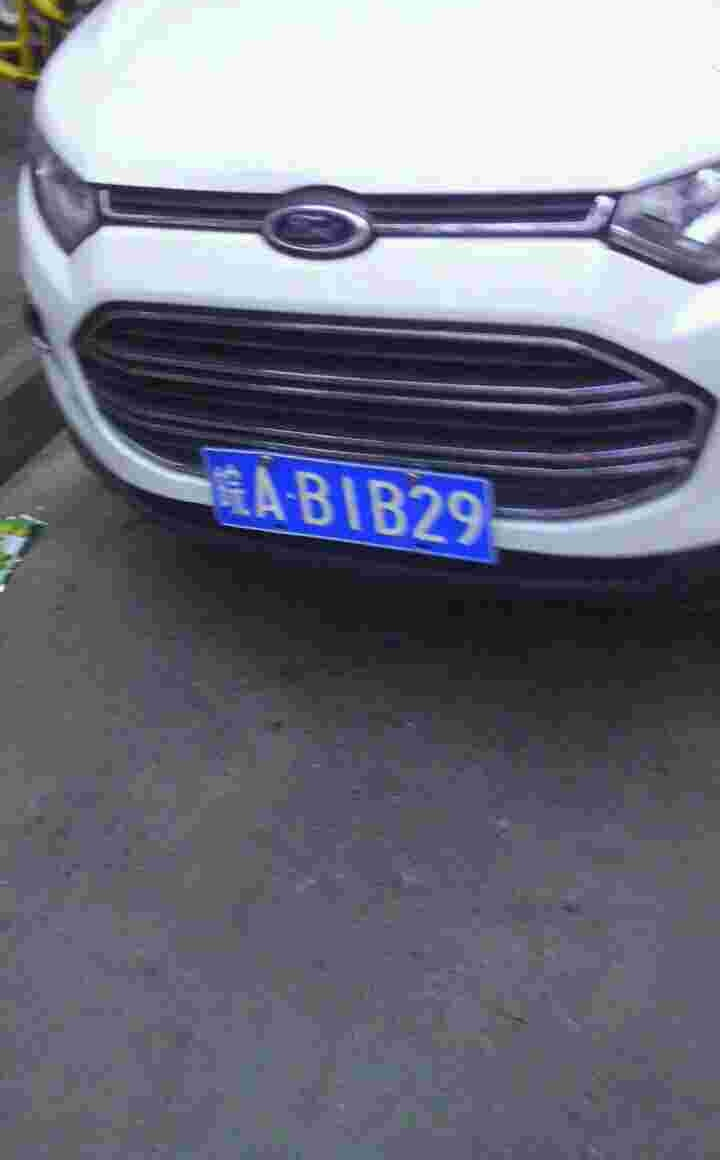license_plate: (212, 440, 493, 556)
